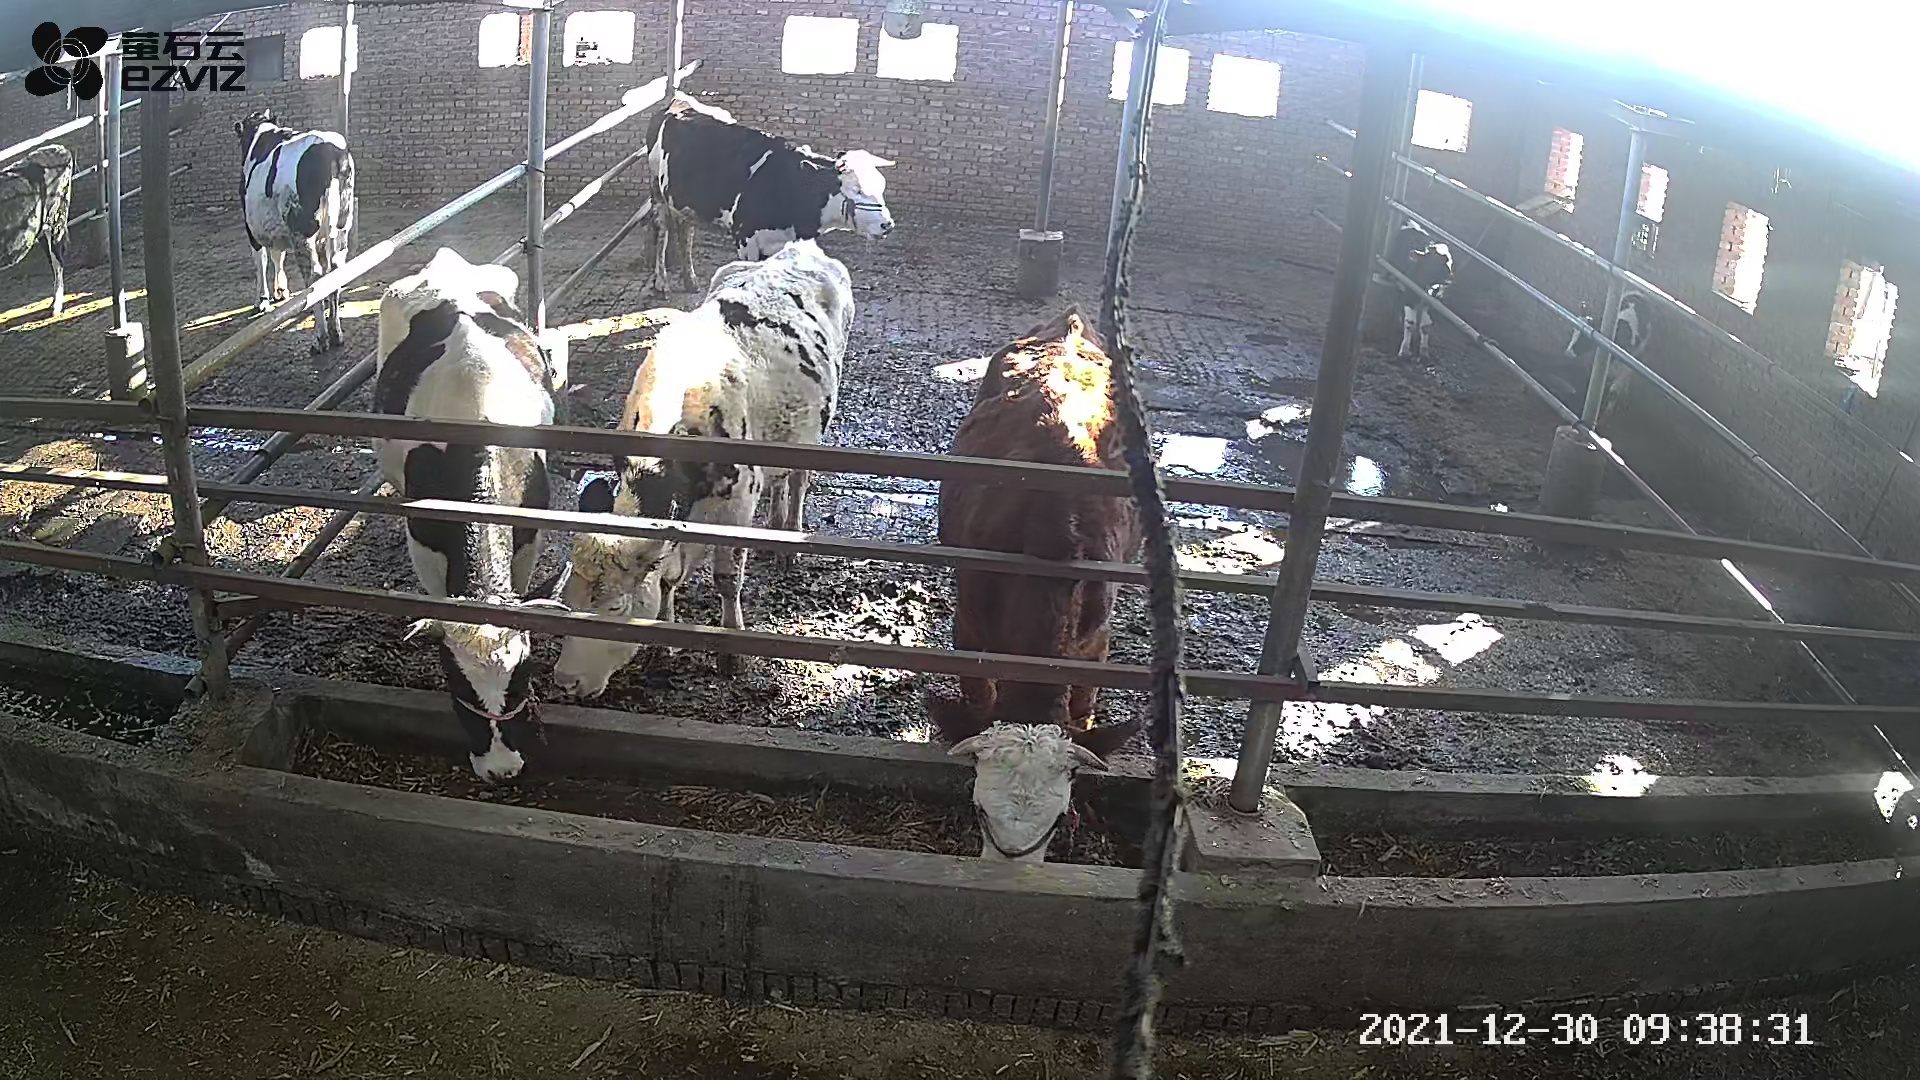cow: (553, 233, 856, 702), (914, 298, 1145, 862), (371, 243, 578, 787), (644, 87, 895, 297)
